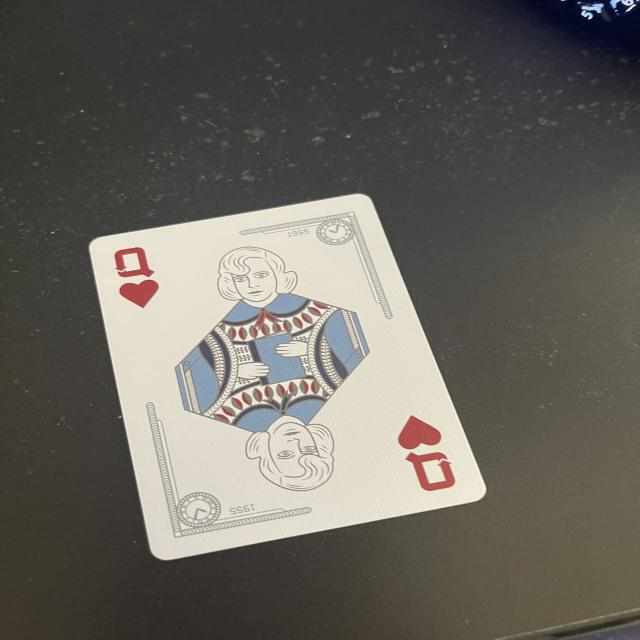Queen of hearts: (90, 195, 485, 557)
